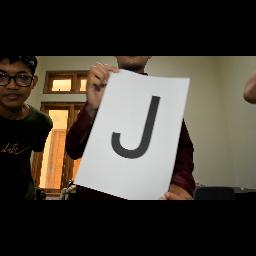j: (110, 92, 162, 160)
